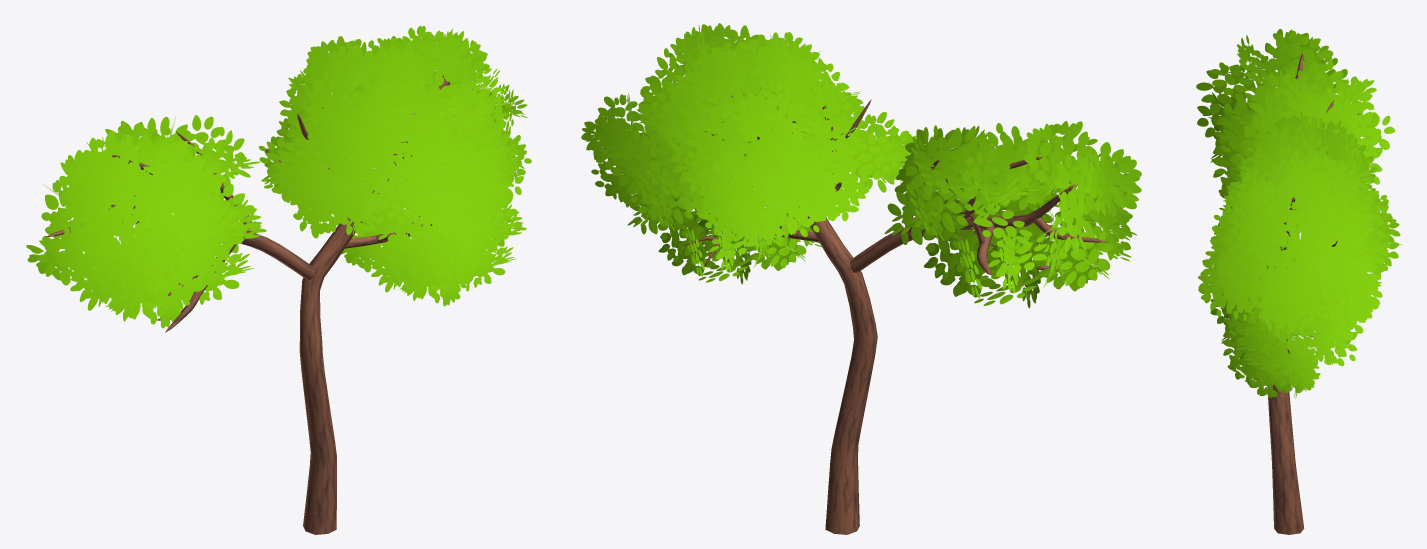
File: fresno.glb
3 renders of one model, left to right at view 1: azimuth 30°, elevation 25°; view 2: azimuth 150°, elevation 25°; view 3: azimuth 270°, elevation 25°, orthographic. The views are drawn at different scales.
Parts seen in each view (by area): view 1: fresno; view 2: fresno; view 3: fresno.
Boxes of the visible parts, x1,y1,x2,y2 form: fresno: (26,26,531,534); fresno: (581,23,1141,534); fresno: (1196,29,1401,534).
Size of the model in its own units: 15.03 by 13.5 by 6.36.
2 materials, 2 textured.
